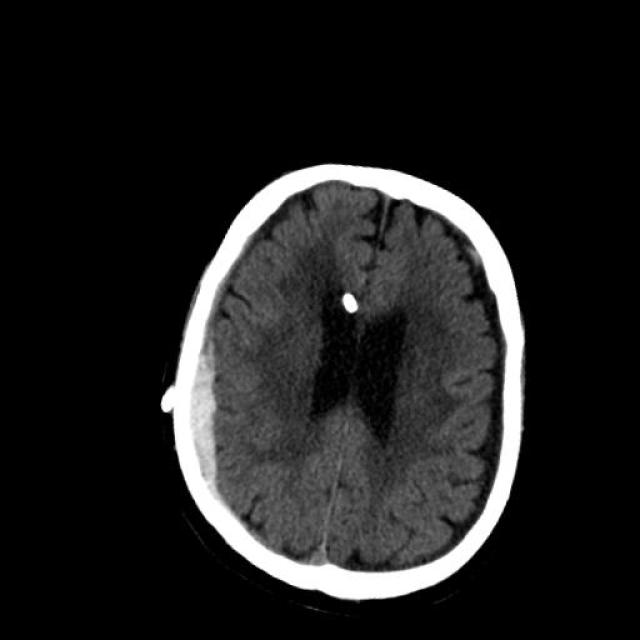Subdural: (122, 311, 289, 524)
